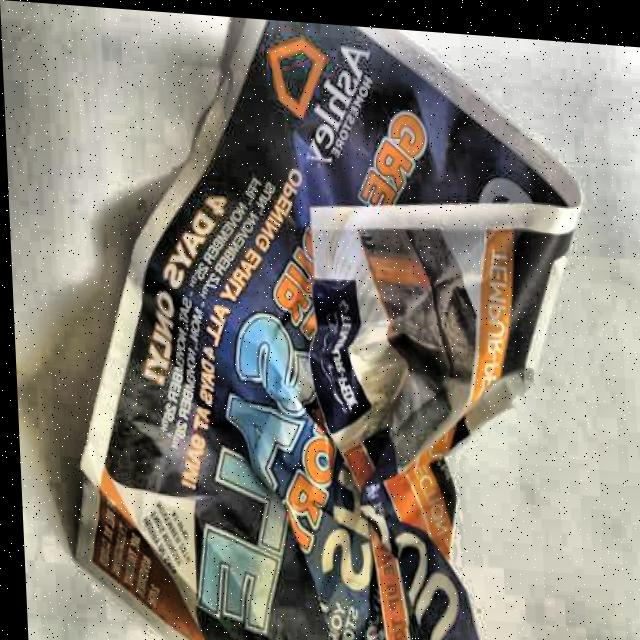paper: (50, 4, 604, 640)
